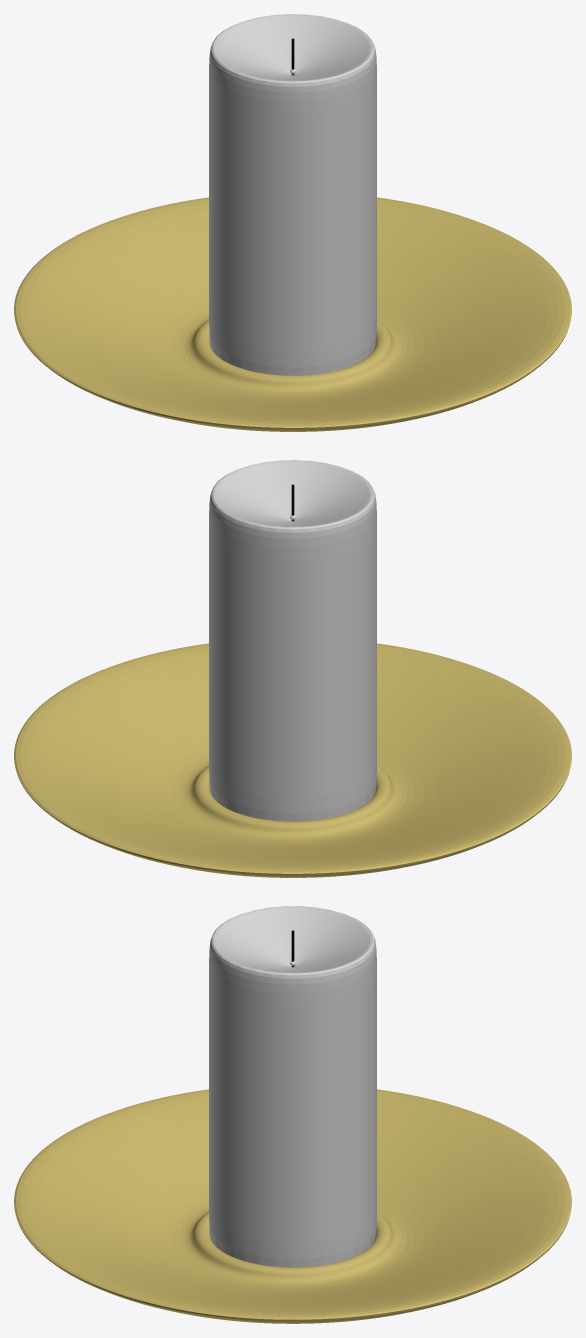
File: Candle2.fbx
The picture shows the model from 3 angles, top to bottom: view 1: azimuth 30°, elevation 25°; view 2: azimuth 150°, elevation 25°; view 3: azimuth 270°, elevation 25°; orthographic projection.
Parts seen in each view (by area): view 1: Candle Holder, Candle; view 2: Candle Holder, Candle; view 3: Candle Holder, Candle.
Boxes of the visible parts, box(x1,y1,x2,y2) form: Candle Holder: box(14, 197, 571, 431); Candle: box(209, 14, 376, 375); Candle Holder: box(14, 643, 571, 877); Candle: box(209, 460, 376, 821); Candle Holder: box(14, 1089, 571, 1323); Candle: box(209, 906, 376, 1267).
Bounding box in the file's own units: 362 × 243 × 362.
